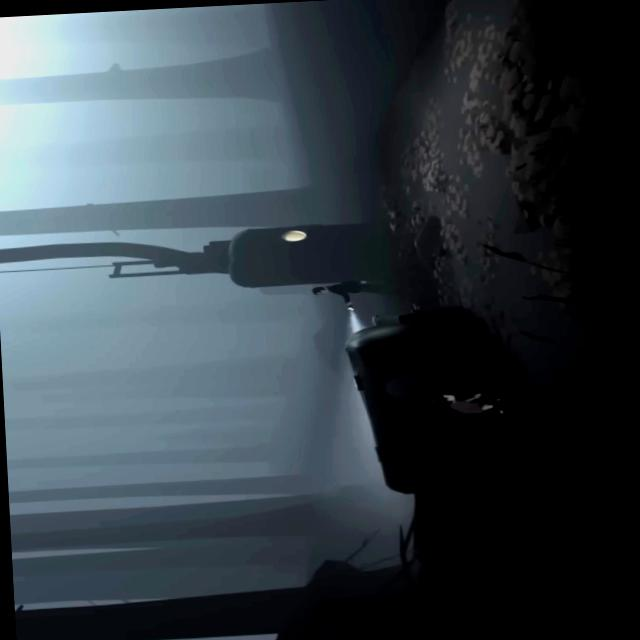boy: (432, 391, 509, 418)
